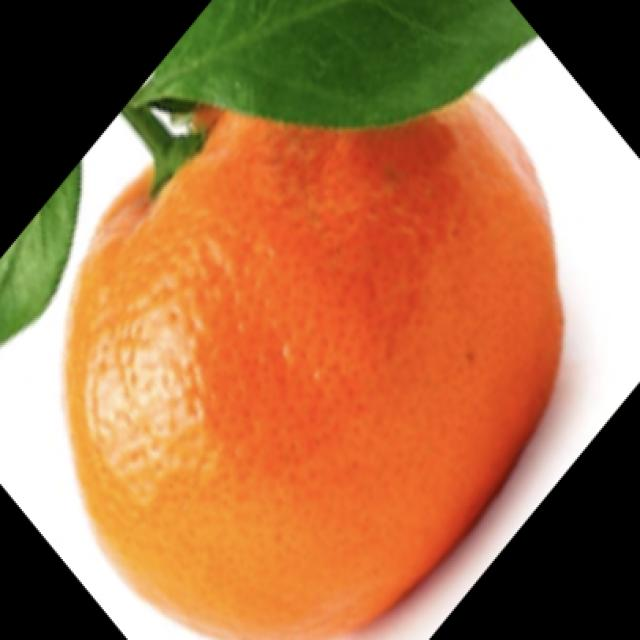fresh: (28, 49, 555, 636)
